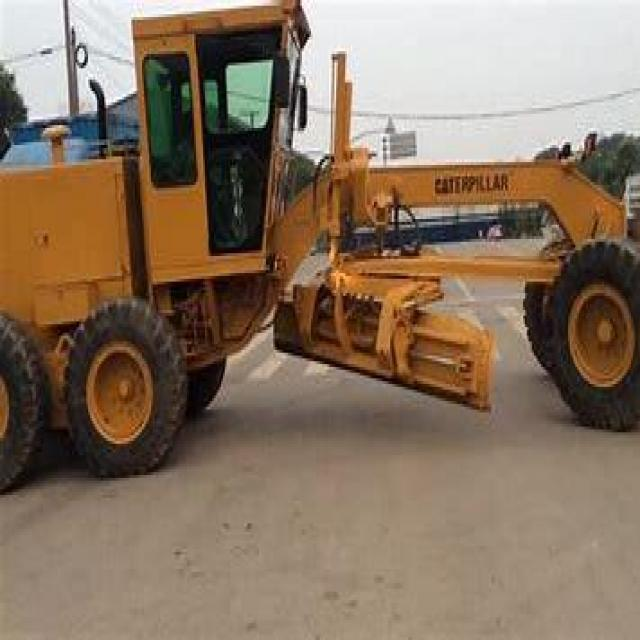Grader: (4, 9, 638, 506)
